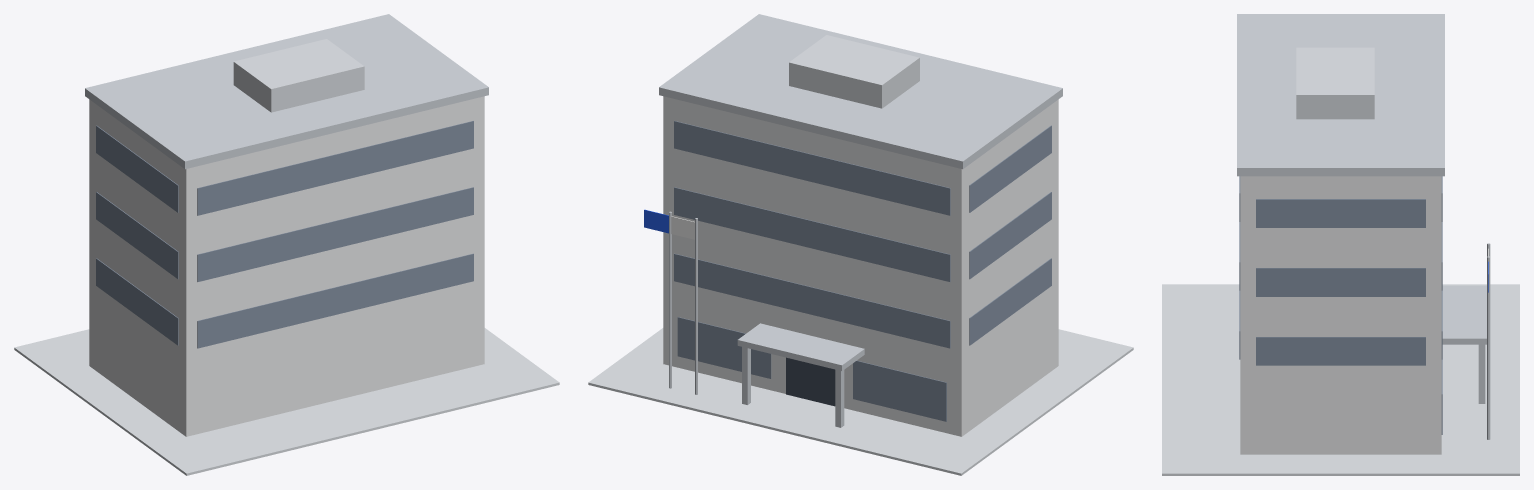
The model's file is gov_office.glb.
3 views of the same model, side by side, from view 1: azimuth 30°, elevation 25°; view 2: azimuth 150°, elevation 25°; view 3: azimuth 270°, elevation 25° (orthographic). The views are drawn at different scales.
Parts seen in each view (by area): view 1: Body; view 2: Body; view 3: Body.
Part boxes in pixels (x1,y1,x2,y2): Body: (14, 14, 559, 475); Body: (588, 14, 1133, 475); Body: (1162, 14, 1519, 475).
Bounding box in the file's own units: 20 × 15.52 × 16.
